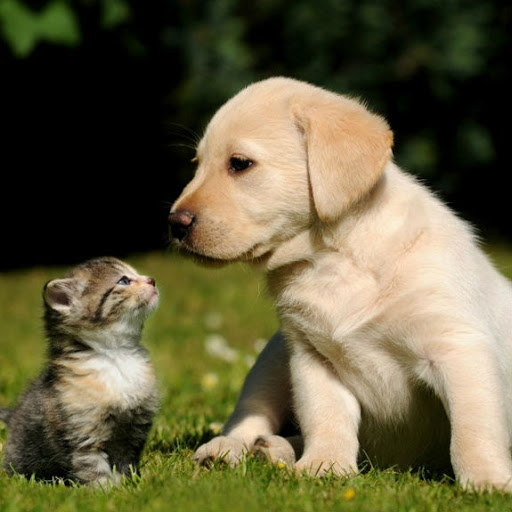cat: (1, 255, 157, 492)
dog: (165, 74, 512, 494)
